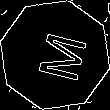M_W: (25, 27, 85, 83)
